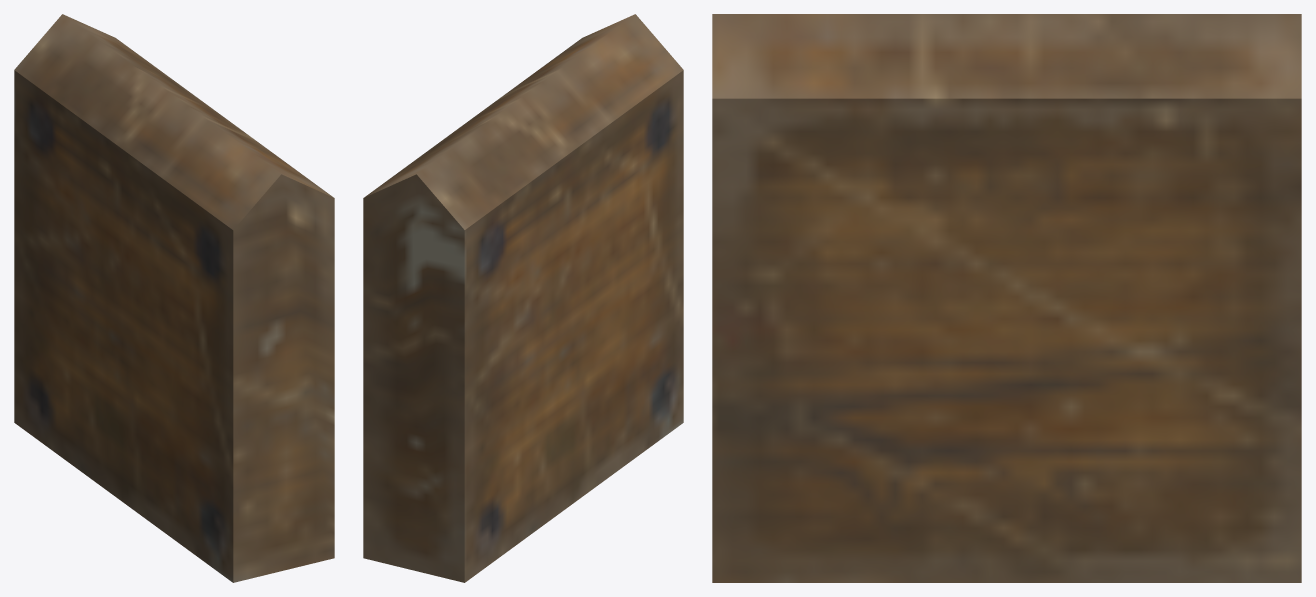
Rendered from SM_Peg.gltf.
3 renders of one model, left to right at view 1: azimuth 30°, elevation 25°; view 2: azimuth 150°, elevation 25°; view 3: azimuth 270°, elevation 25°, orthographic. The views are drawn at different scales.
Visible parts, largest first — view 1: SM_Peg_LOD0; view 2: SM_Peg_LOD0; view 3: SM_Peg_LOD0.
Part boxes in pixels (bbox=[...]): SM_Peg_LOD0: bbox=[14, 14, 334, 582]; SM_Peg_LOD0: bbox=[363, 14, 683, 582]; SM_Peg_LOD0: bbox=[712, 14, 1301, 582].
Size of what is drawn, in the model's own units: 0.0221 by 0.0827 by 0.0827.
